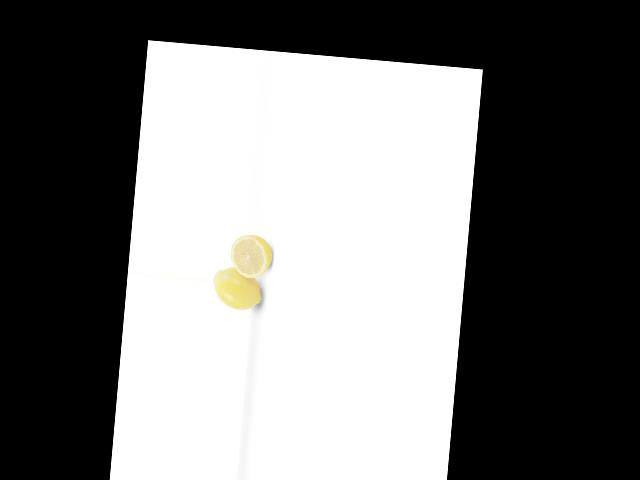lemon: (209, 263, 267, 315)
